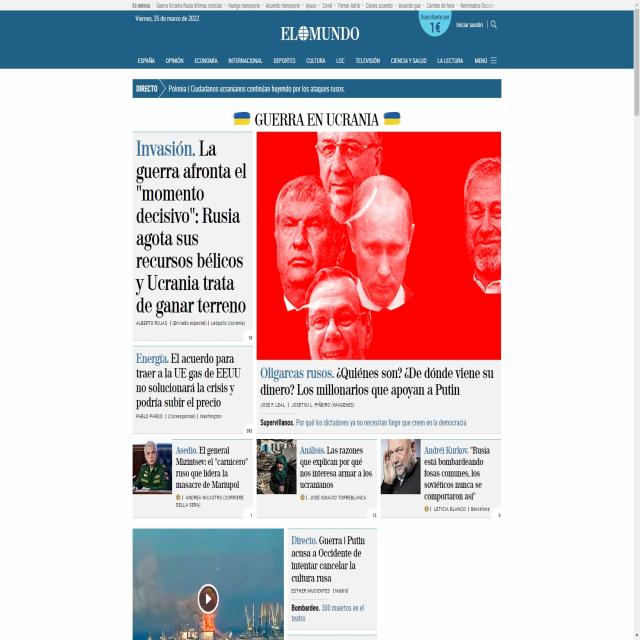menu-bar: (134, 52, 502, 71)
